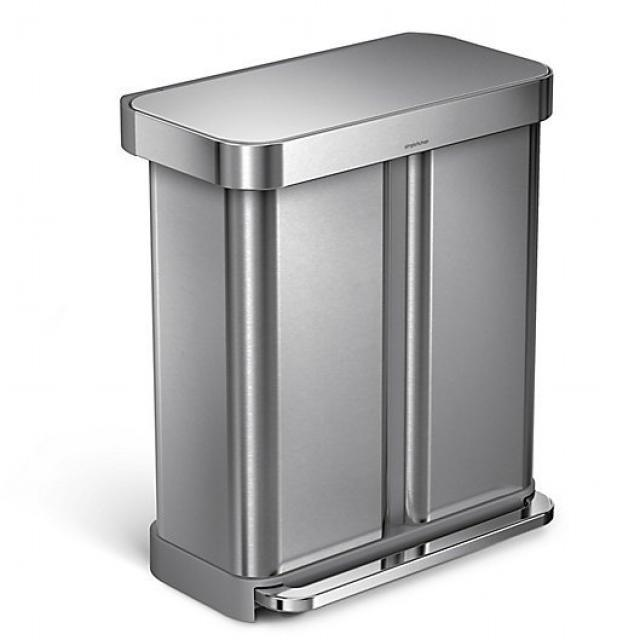Dumpster: (118, 31, 557, 619)
